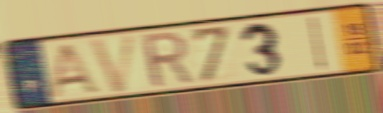3: (239, 19, 290, 81)
7: (191, 23, 232, 85)
A: (46, 41, 104, 98)
I: (307, 14, 328, 73)
R: (138, 29, 196, 91)
V: (87, 31, 140, 96)
